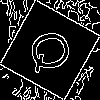Q: (25, 25, 82, 75)
